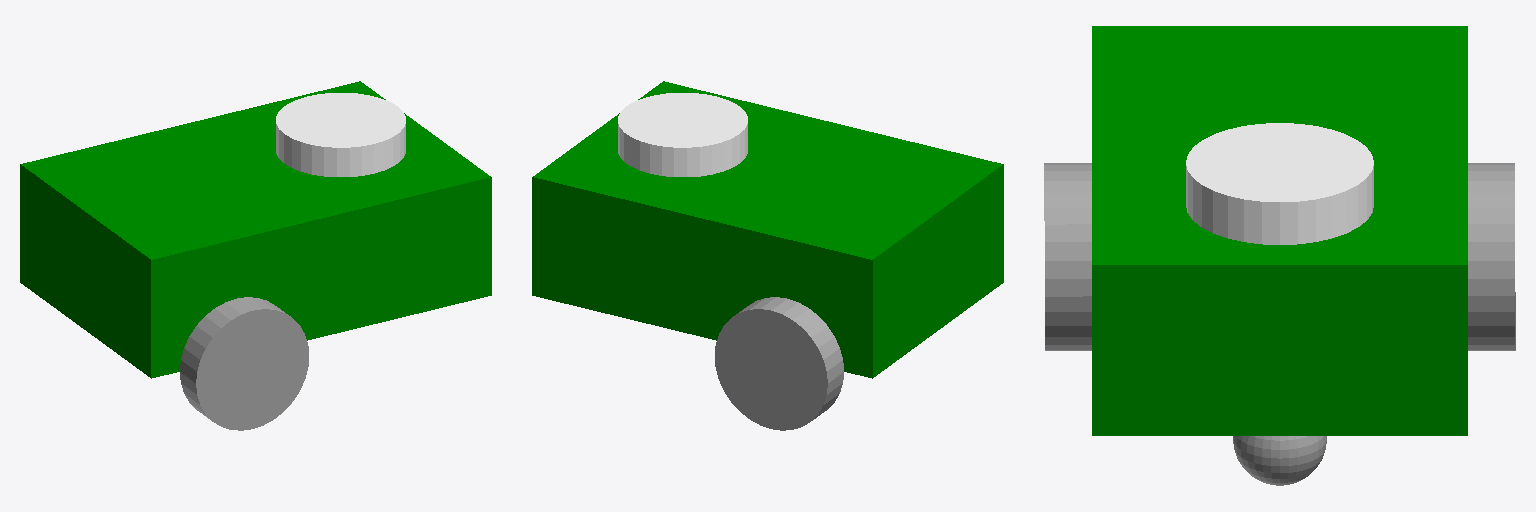
URDF robot description (my_robot):
<?xml version="1.0"?>
<robot name="my_robot">
    <material name="green">
        <color rgba="0 0.6 0 1"/>
    </material>
    <material name="white">
        <color rgba="1 1 1 1"/>
    </material>
    <material name="gray">
        <color rgba="0.7 0.7 0.7 1"/>
    </material>
    <link name="base_link">
        <visual>
            <geometry>
                <box size="0.6 0.4 0.2" />
            </geometry>
            <origin xyz="0 0 0.1" rpy="0 0 0"/>
            <material name="green"/>
        </visual>
    </link>
    <link name="lidar">
        <visual>
            <geometry>
                <cylinder radius="0.1" length="0.05" />
            </geometry>
            <origin xyz="0 0 0" rpy="0 0 0" />
            <material name="white"/>
        </visual>
    </link>
    <joint name="base_lidar_joint" type="fixed">
        <parent link="base_link"/>
        <child link="lidar"/>
        <origin xyz="0.15 0 0.225" rpy="0 0 0"/>
    </joint>
    <link name="left_wheel">
        <visual>
            <geometry>
                <cylinder radius="0.1" length="0.05" />
            </geometry>
            <origin xyz="0 0 0.025" rpy="0 0 0" />
            <material name="gray"/>
        </visual>
    </link>
    <joint name="base_left_wheel_joint" type="continuous">
        <parent link="base_link"/>
        <child link="left_wheel"/>
        <origin xyz="-0.15 0.2 0" rpy="-1.57 0 0"/>
        <axis xyz="0 0 1"/>
    </joint>
    <link name="right_wheel">
        <visual>
            <geometry>
                <cylinder radius="0.1" length="0.05" />
            </geometry>
            <origin xyz="0 0 -0.025" rpy="0 0 0" />
            <material name="gray"/>
        </visual>
    </link>
    <joint name="base_right_wheel_joint" type="continuous">
        <parent link="base_link"/>
        <child link="right_wheel"/>
        <origin xyz="-0.15 -0.2 0" rpy="-1.57 0 0"/>
        <axis xyz="0 0 1"/>
    </joint>
    <link name="caster_wheel">
        <visual>
            <geometry>
                <sphere radius="0.05" />
            </geometry>
            <origin xyz="0 0 0" rpy="0 0 0" />
            <material name="gray" />
        </visual>
    </link>
    <joint name="base_caster_wheel_joint" type="fixed">
        <parent link="base_link" />
        <child link="caster_wheel"/>
        <origin xyz="0.2 0 -0.05" rpy="0 0 0" />
    </joint>
    <link name="base_footprint"/>
    <joint name="base_joint" type="fixed">
        <parent link="base_footprint" />
        <child link="base_link" />
        <origin xyz="0 0 0.1" rpy="0 0 0" />
    </joint>
</robot>

--- Render facts (derived) ---
3 views of the same robot in one strip: view 1: azimuth 30°, elevation 25°; view 2: azimuth 150°, elevation 25°; view 3: azimuth 270°, elevation 25° (orthographic).
Model my_robot with 6 links and 5 joints (2 continuous, 3 fixed), rooted at base_footprint, posed every joint at zero.
Links seen in each view (by area): view 1: base_link, right_wheel, lidar; view 2: base_link, left_wheel, lidar; view 3: base_link, lidar, left_wheel, right_wheel, caster_wheel.
Boxes of the visible links, bbox=[...] form: base_link: bbox=[20, 81, 491, 378]; right_wheel: bbox=[180, 297, 308, 430]; lidar: bbox=[276, 93, 405, 176]; base_link: bbox=[532, 81, 1003, 378]; left_wheel: bbox=[715, 297, 843, 430]; lidar: bbox=[618, 93, 747, 176]; base_link: bbox=[1092, 26, 1467, 435]; lidar: bbox=[1186, 123, 1373, 244]; left_wheel: bbox=[1468, 163, 1515, 350]; right_wheel: bbox=[1044, 163, 1091, 350]; caster_wheel: bbox=[1233, 436, 1326, 485].
Size in the robot's own frame: 0.6 by 0.5002 by 0.35 metres.
Geometry: primitives only (box / cylinder / sphere), no mesh files.
